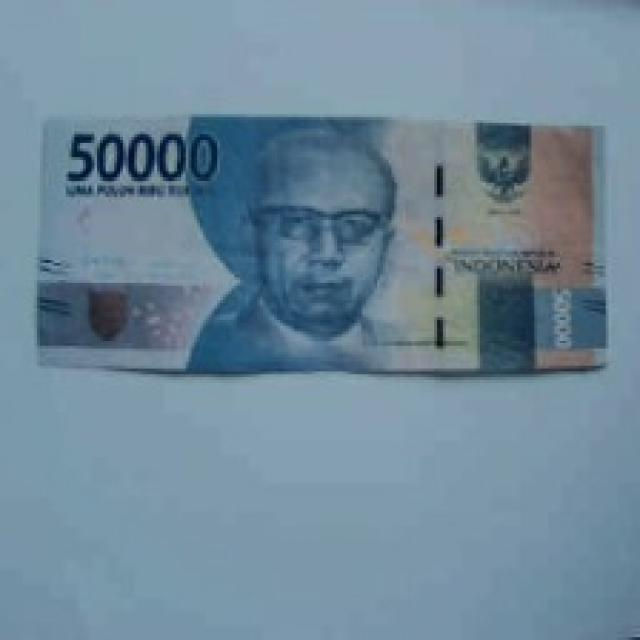dua ribu rupiah: (13, 58, 640, 368)
